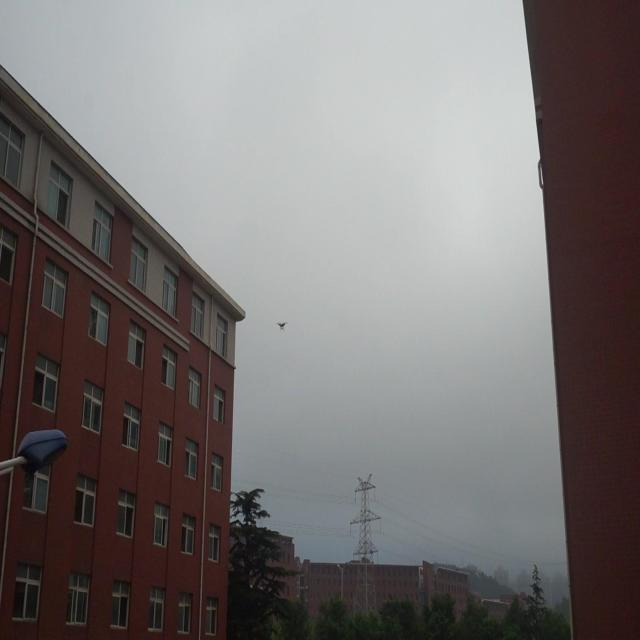drone: (275, 317, 287, 333)
